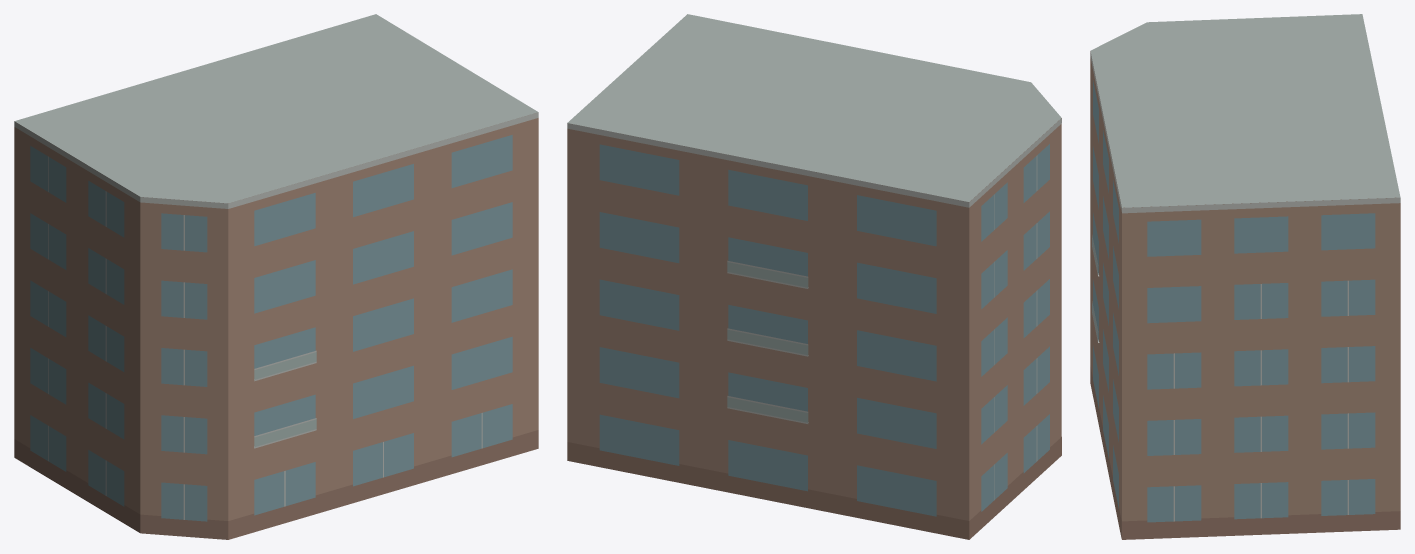
File: survey-upis-32904320.glb
The picture shows the model from 3 angles, left to right: view 1: azimuth 30°, elevation 25°; view 2: azimuth 150°, elevation 25°; view 3: azimuth 270°, elevation 25°; orthographic projection.
Parts seen in each view (by area): view 1: survey-upis-32904320.tmp; view 2: survey-upis-32904320.tmp; view 3: survey-upis-32904320.tmp.
Part boxes in pixels (bbox=[...]): survey-upis-32904320.tmp: bbox=[14, 14, 538, 539]; survey-upis-32904320.tmp: bbox=[567, 14, 1061, 539]; survey-upis-32904320.tmp: bbox=[1090, 14, 1400, 539].
Bounding box in the file's own units: 18.34 × 14.64 × 12.41.
